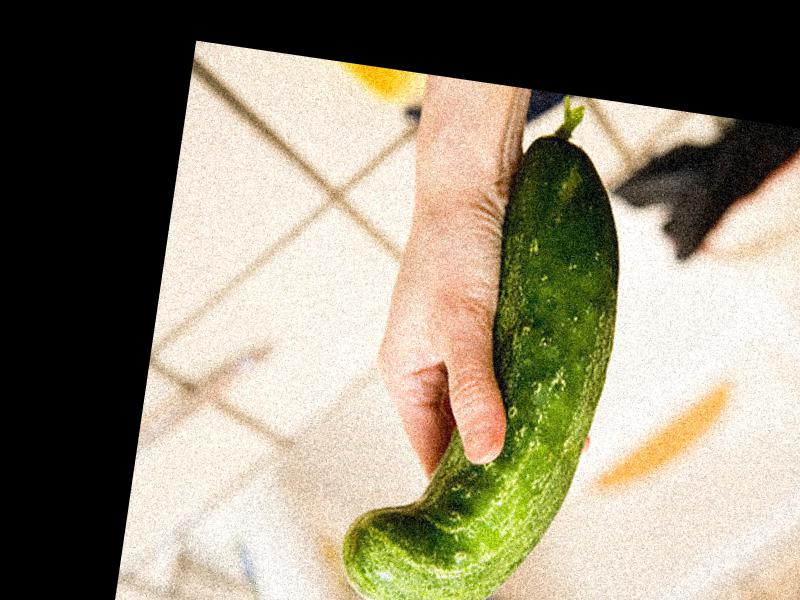Cucumber: (334, 80, 647, 600)
